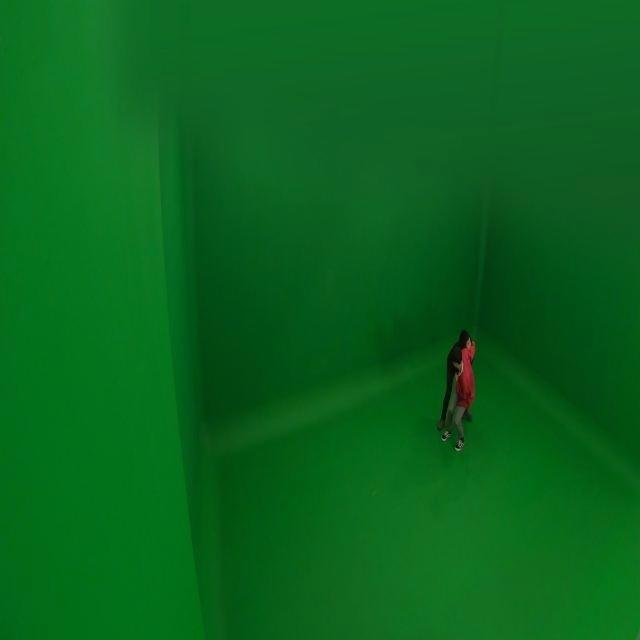non-fight: (436, 326, 476, 451)
